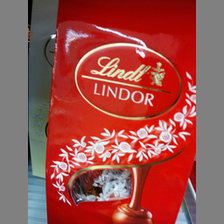chocolate: (47, 1, 197, 224)
